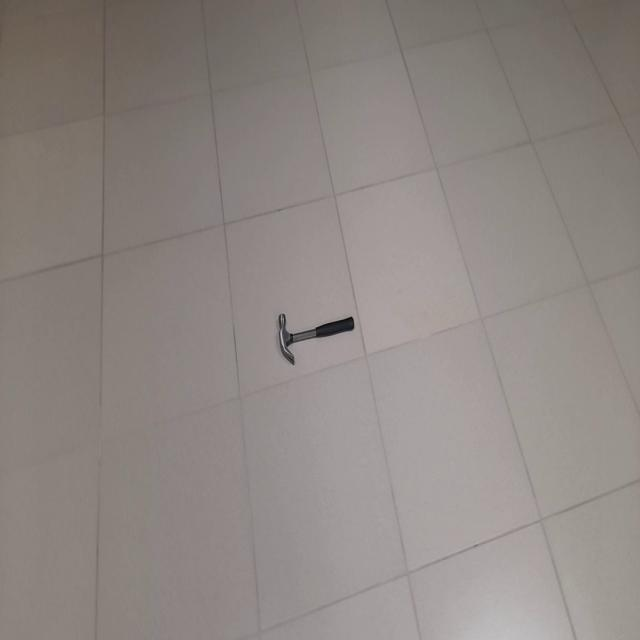hammer: (278, 312, 354, 364)
